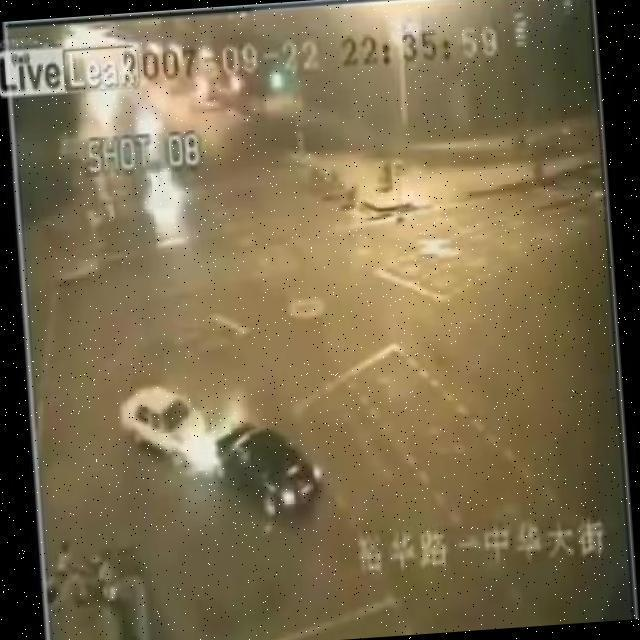accident: (115, 370, 329, 537)
